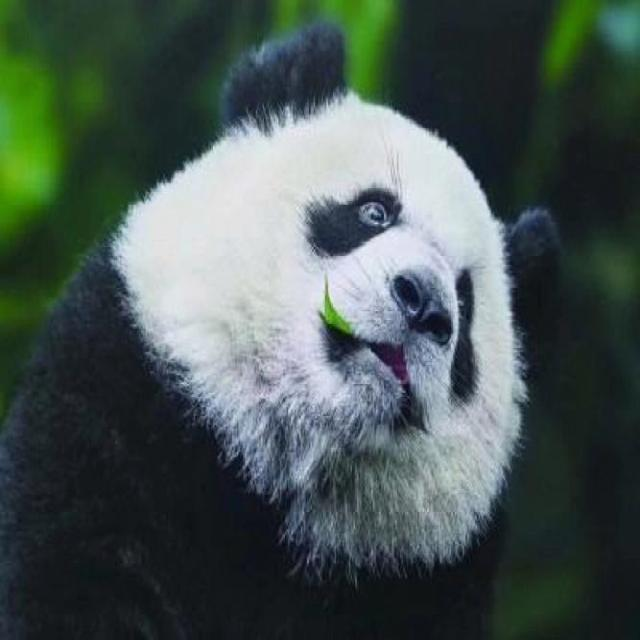panda: (3, 23, 564, 640)
